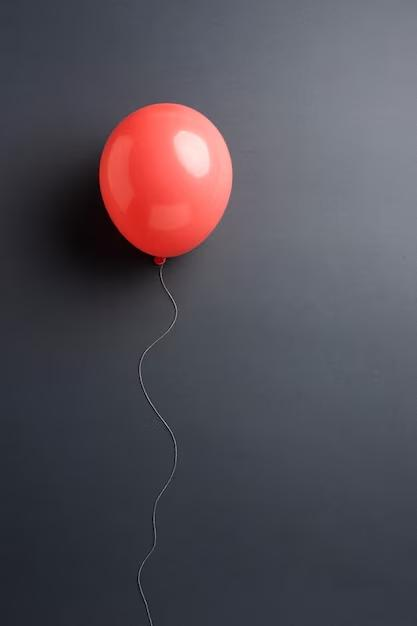red: (92, 98, 234, 270)
